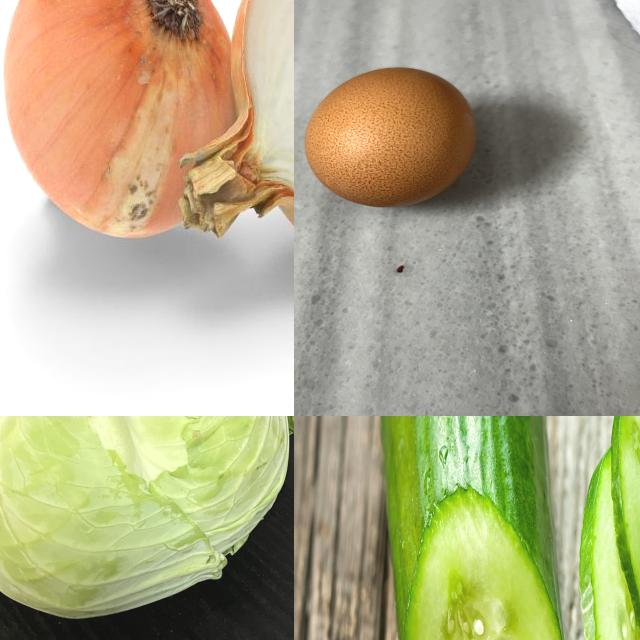cabbage: (1, 417, 295, 625)
cucumber: (377, 417, 572, 640)
egg: (298, 66, 486, 212)
onion: (1, 1, 236, 242), (179, 1, 295, 267)
